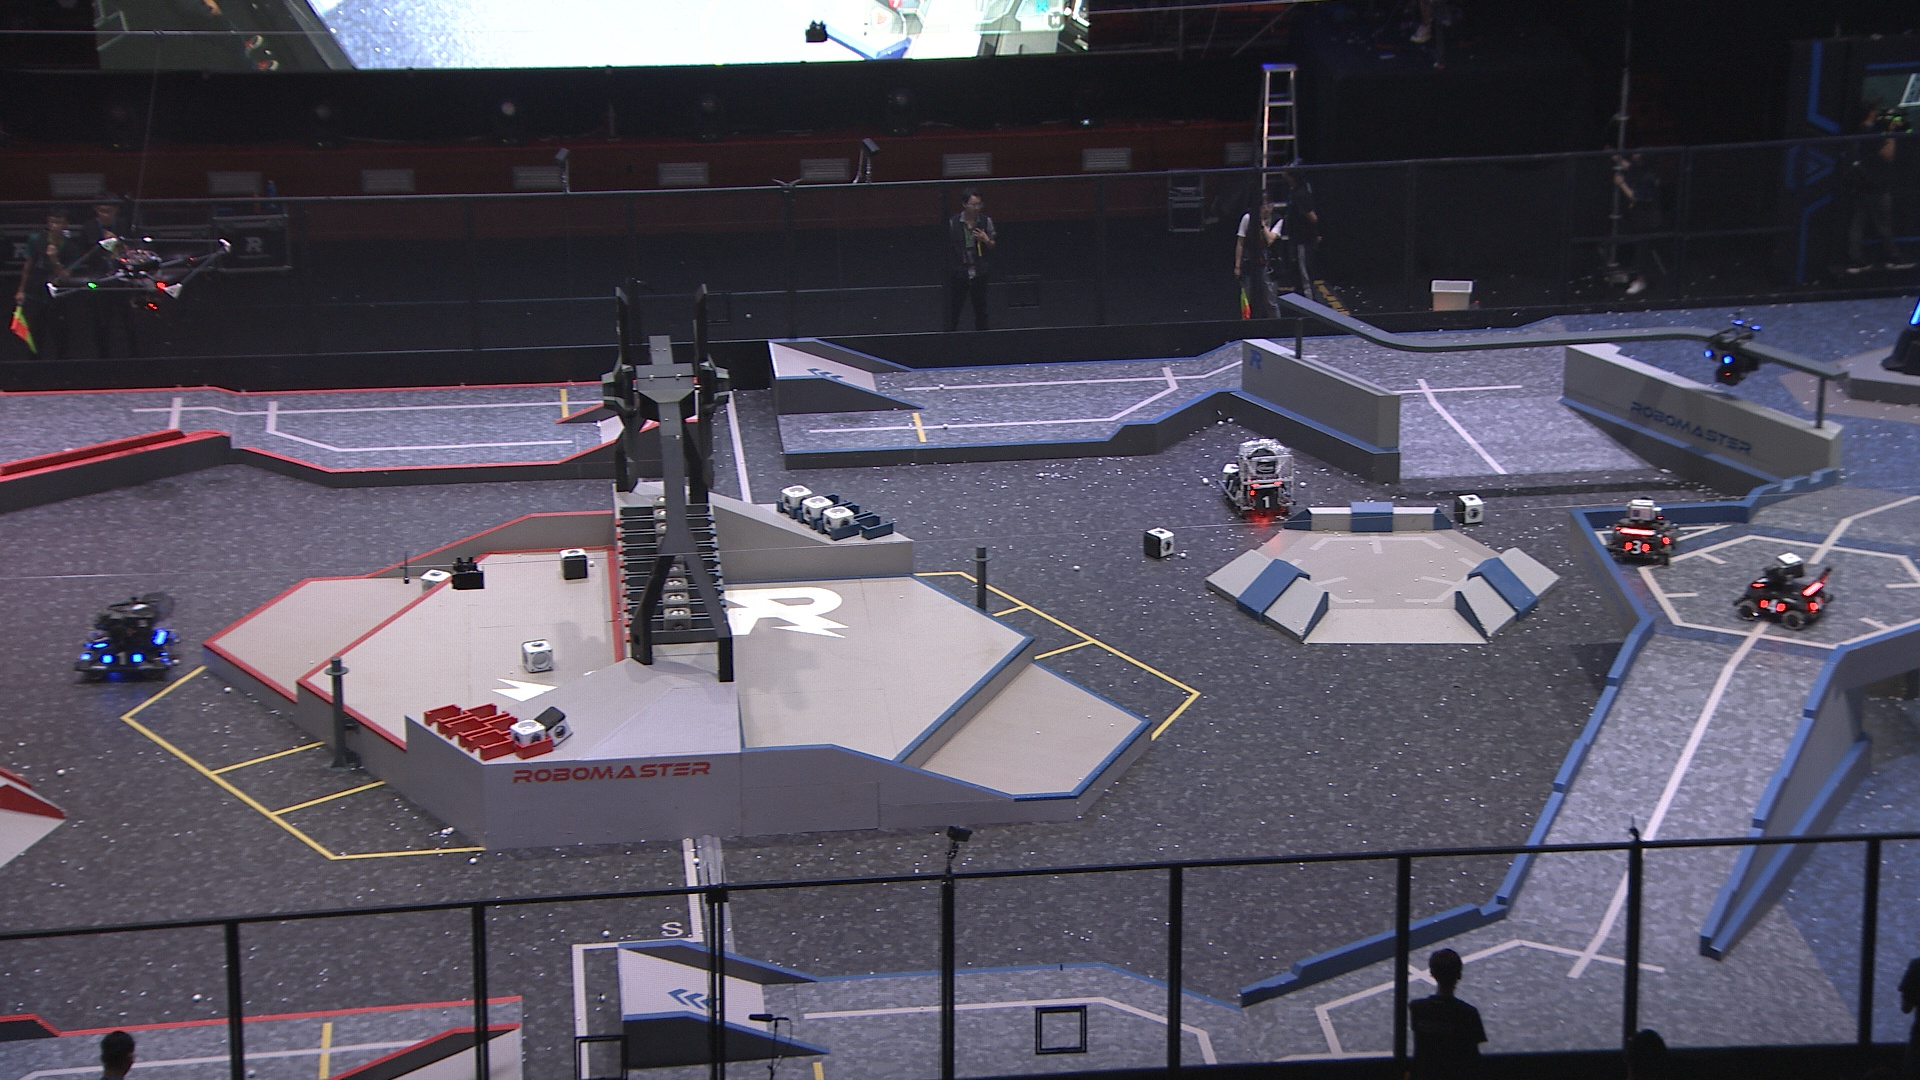armor: (100, 650, 146, 669), (1756, 597, 1789, 616), (1702, 349, 1731, 367), (1253, 493, 1278, 510), (1622, 541, 1651, 555), (1904, 301, 1920, 327), (1808, 593, 1826, 615), (92, 633, 109, 654), (1222, 476, 1240, 493), (1751, 575, 1770, 589)
base: (1879, 272, 1920, 380)
car: (73, 591, 174, 680), (1731, 553, 1836, 632), (1215, 436, 1296, 518), (1605, 495, 1676, 567)
watcher: (1702, 314, 1764, 386)
